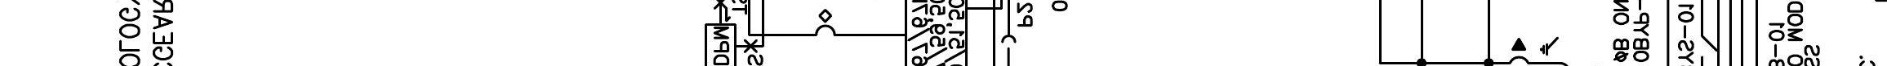115_ds: (1700, 35, 1717, 59)
